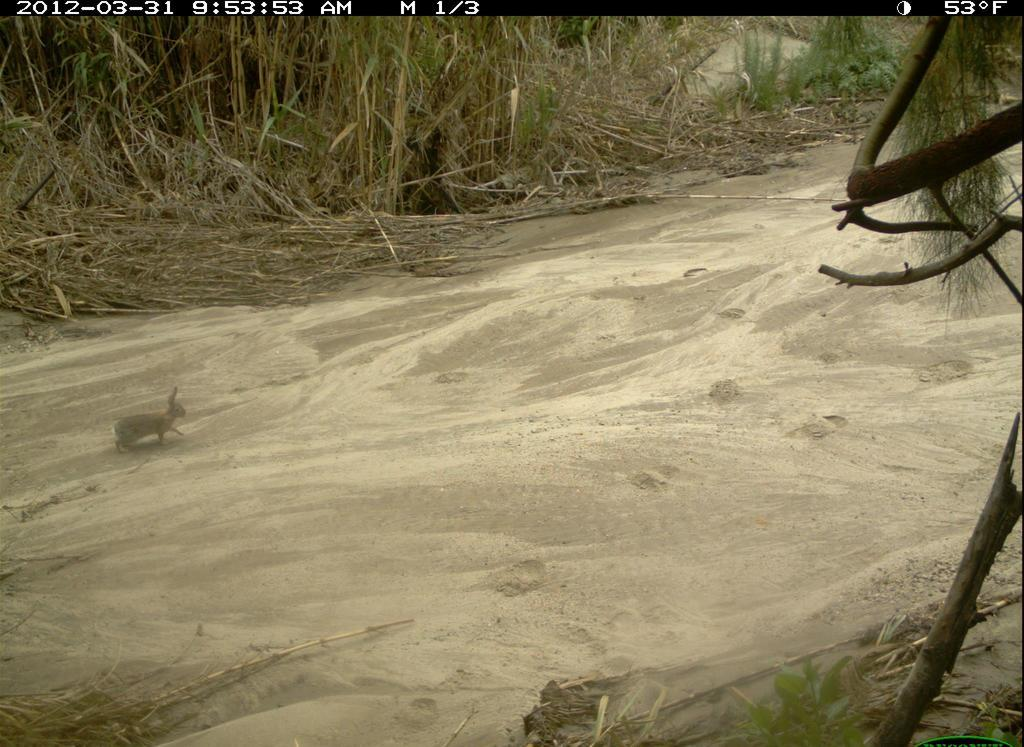rabbit: (94, 381, 210, 466)
